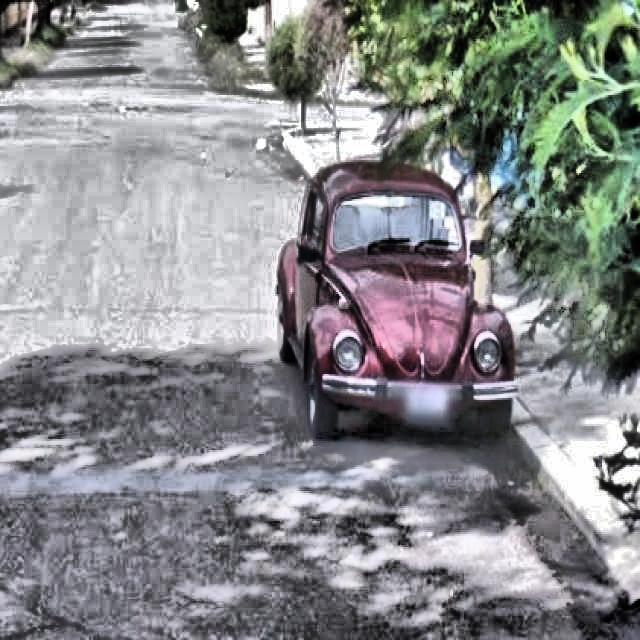carro: (268, 164, 526, 448)
